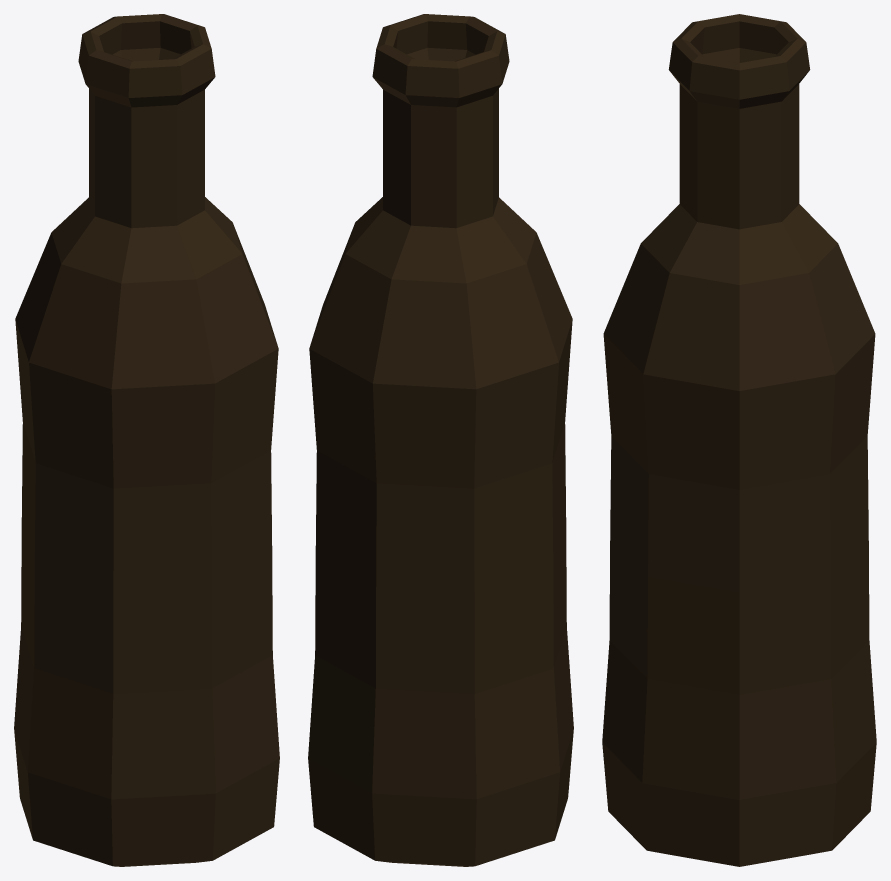
File: (B)Bottle(open).fbx
3 renders of one model, left to right at view 1: azimuth 30°, elevation 25°; view 2: azimuth 150°, elevation 25°; view 3: azimuth 270°, elevation 25°, orthographic.
Visible parts, largest first — view 1: Cylinder; view 2: Cylinder; view 3: Cylinder.
Part boxes in pixels (bbox=[...]): Cylinder: bbox=[14, 14, 279, 866]; Cylinder: bbox=[308, 14, 573, 866]; Cylinder: bbox=[602, 14, 876, 866].
Bounding box in the file's own units: 56.61 × 179 × 56.61.
